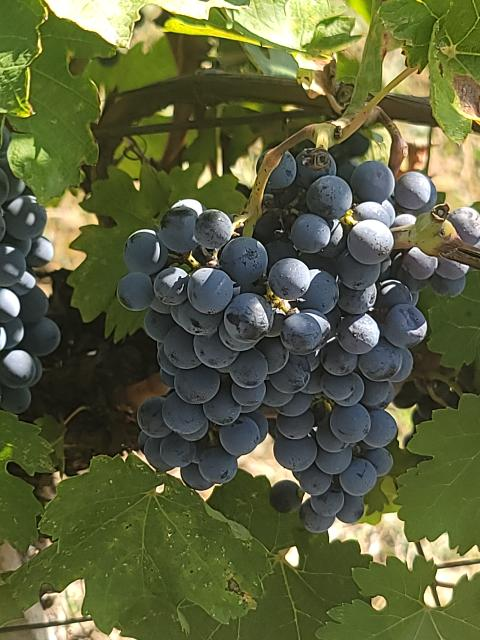grapes: (255, 150, 470, 531), (118, 200, 339, 490)
